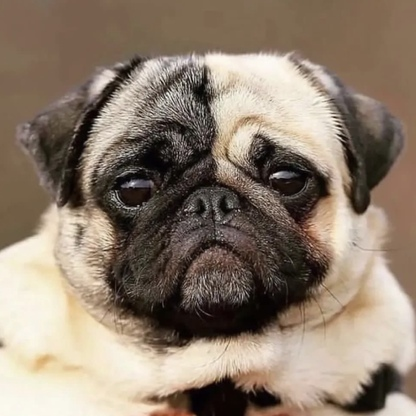Pug: (1, 36, 416, 415)
